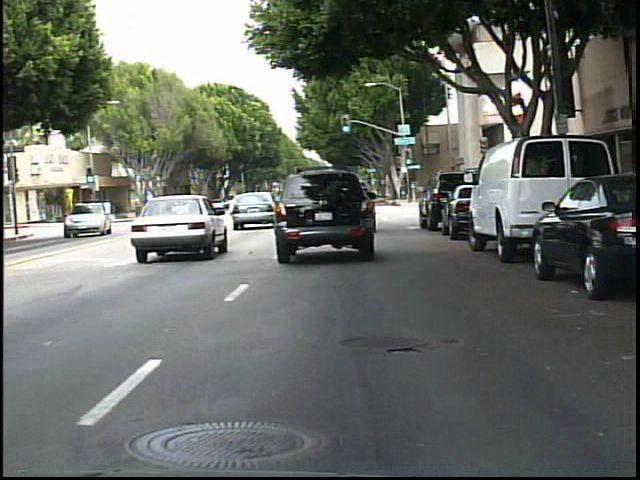person: (97, 193, 116, 225)
